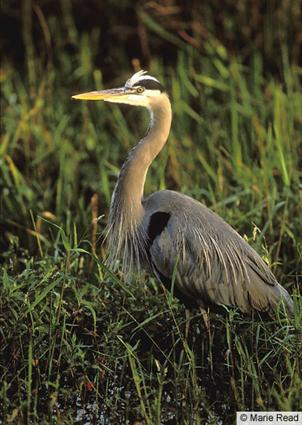heron: (66, 65, 302, 387)
